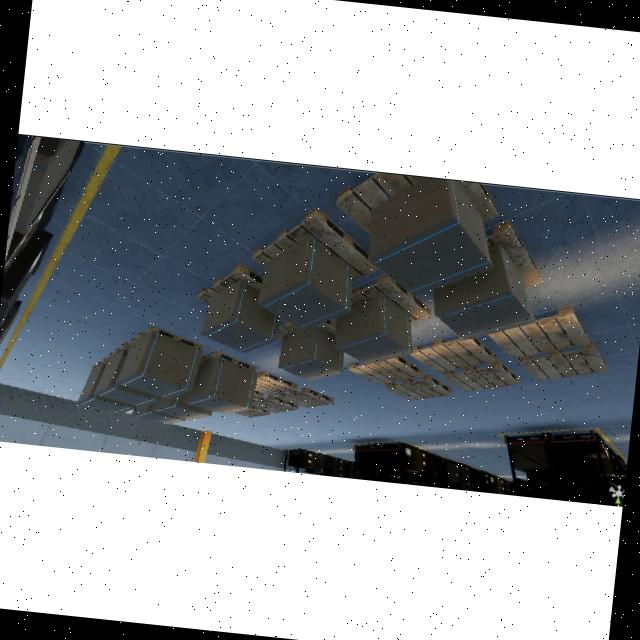wooden_pallet: (250, 206, 378, 283), (333, 171, 446, 240), (489, 307, 589, 357), (409, 333, 492, 371), (520, 344, 605, 381), (195, 262, 267, 305), (446, 178, 503, 229), (444, 359, 519, 391), (127, 324, 207, 351), (346, 356, 421, 384), (387, 375, 452, 401), (278, 386, 335, 409), (200, 350, 257, 371), (254, 369, 298, 396), (251, 394, 298, 414), (226, 409, 262, 422)
